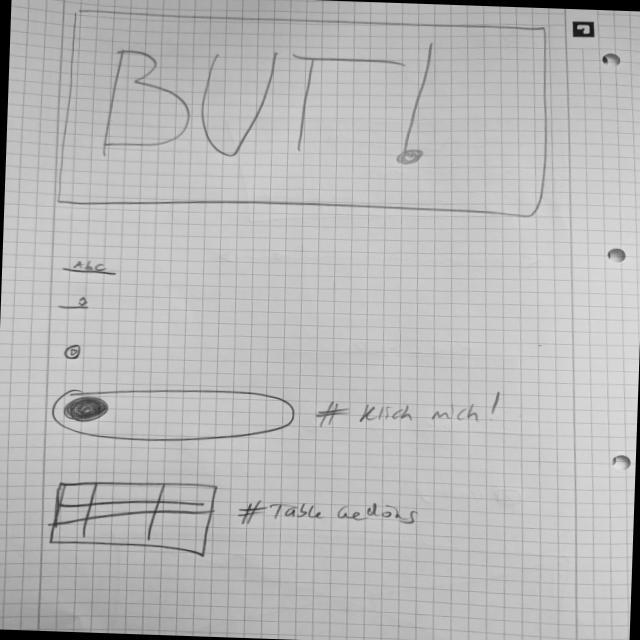button: (58, 8, 557, 223)
icon-button: (62, 343, 84, 363)
input: (59, 258, 123, 280)
label: (316, 384, 508, 437), (236, 497, 424, 532)
number-input: (57, 293, 93, 314)
table: (47, 477, 222, 560)
toggle: (49, 385, 300, 448)
